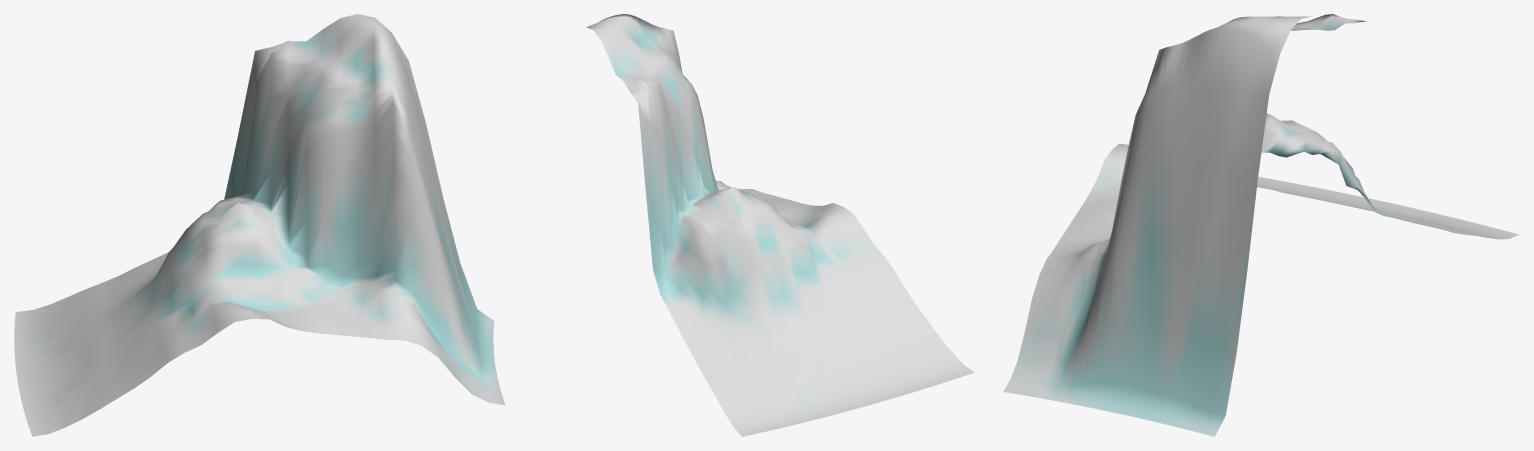
File: middle_4.glb
The picture shows the model from 3 angles, left to right: view 1: azimuth 30°, elevation 25°; view 2: azimuth 150°, elevation 25°; view 3: azimuth 270°, elevation 25°; orthographic projection. The views are drawn at different scales.
Visible parts, largest first — view 1: Mountain; view 2: Mountain; view 3: Mountain.
Part boxes in pixels (x1=…): Mountain: x1=14, y1=14, x2=505, y2=436; Mountain: x1=586, y1=14, x2=974, y2=436; Mountain: x1=1003, y1=14, x2=1519, y2=436.
Size of the model in its own units: 673 by 421 by 546.
